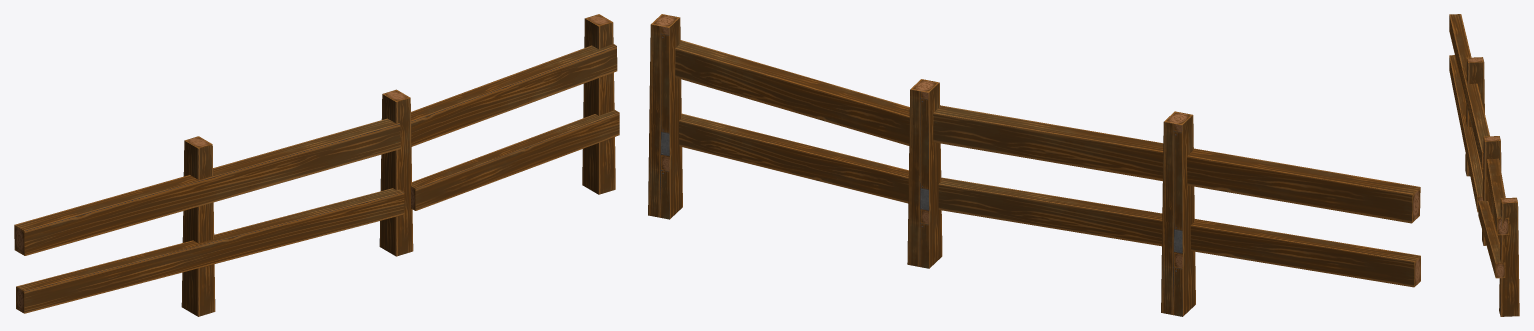
3 renders of one model, left to right at view 1: azimuth 30°, elevation 25°; view 2: azimuth 150°, elevation 25°; view 3: azimuth 270°, elevation 25°, orthographic. The views are drawn at different scales.
Parts seen in each view (by area): view 1: Cube.2150; view 2: Cube.2150; view 3: Cube.2150.
Part boxes in pixels (x1,y1,x2,y2): Cube.2150: (14, 14, 619, 316); Cube.2150: (648, 14, 1420, 316); Cube.2150: (1449, 14, 1519, 316).
Size of the model in its own units: 521 by 132 by 74.27.
Materials: 1 (1 with a texture image).
